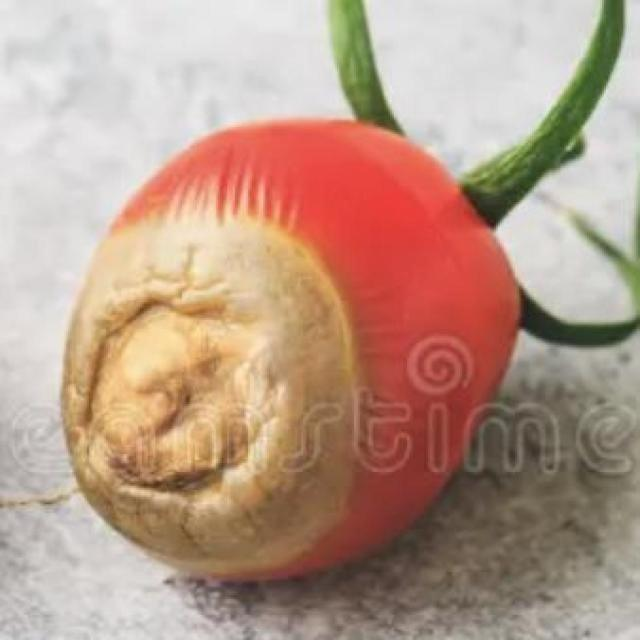Blossom End Rot Fruit: (37, 132, 231, 390)
